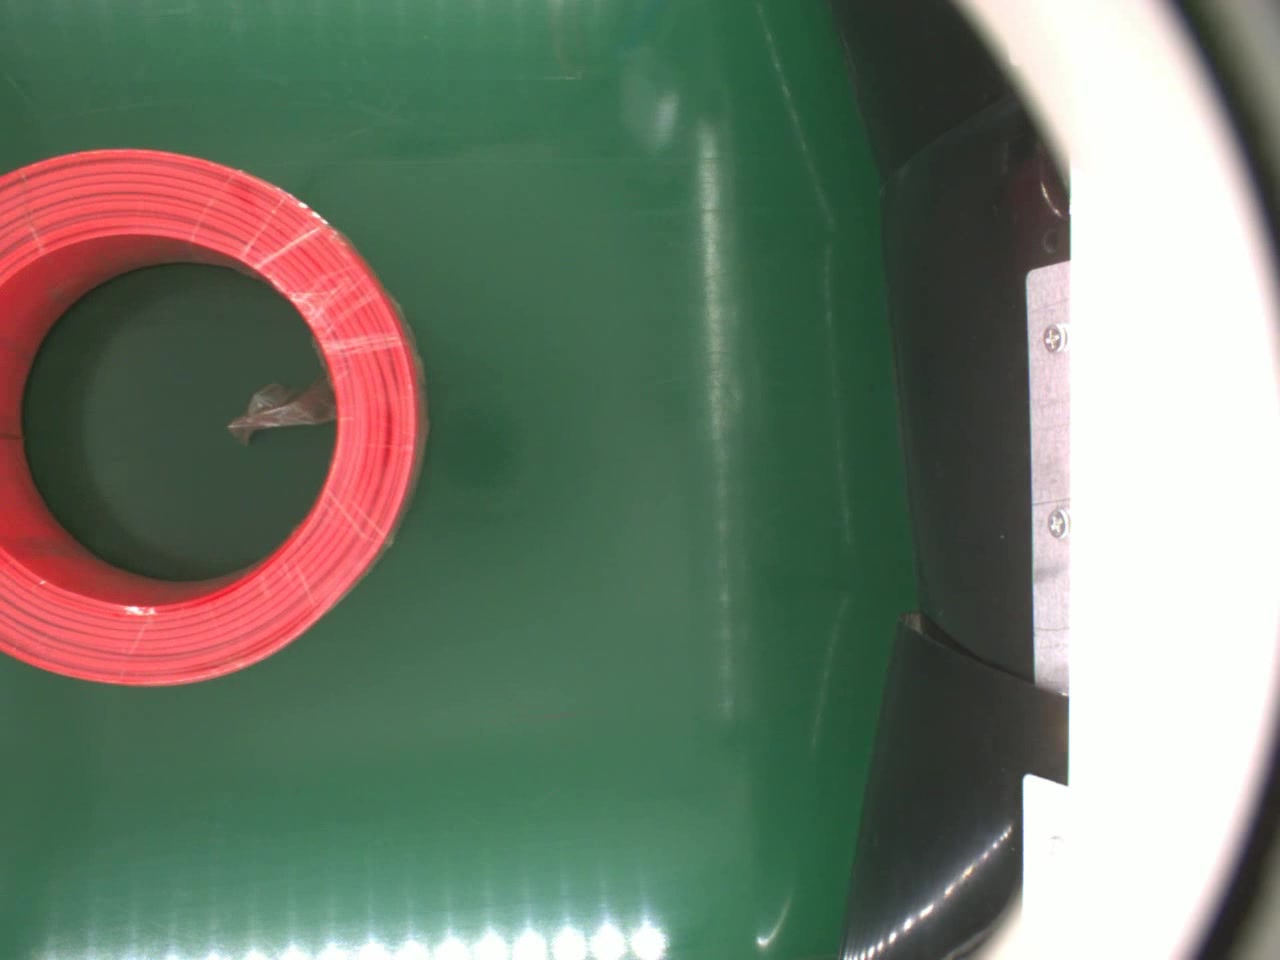red: (0, 149, 425, 680)
